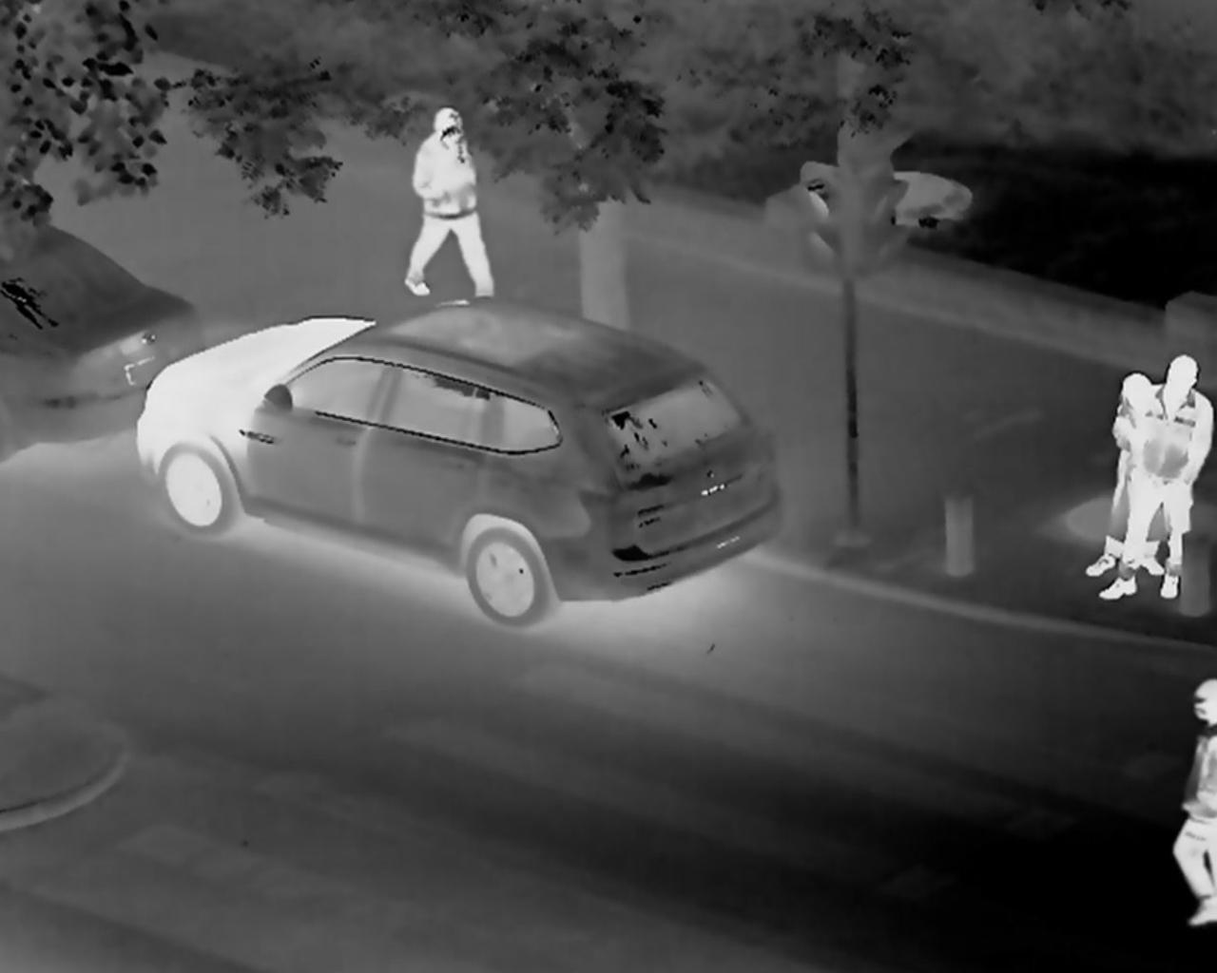person: (1100, 349, 1210, 605), (398, 108, 503, 301), (1087, 373, 1164, 577), (1170, 677, 1216, 926)
